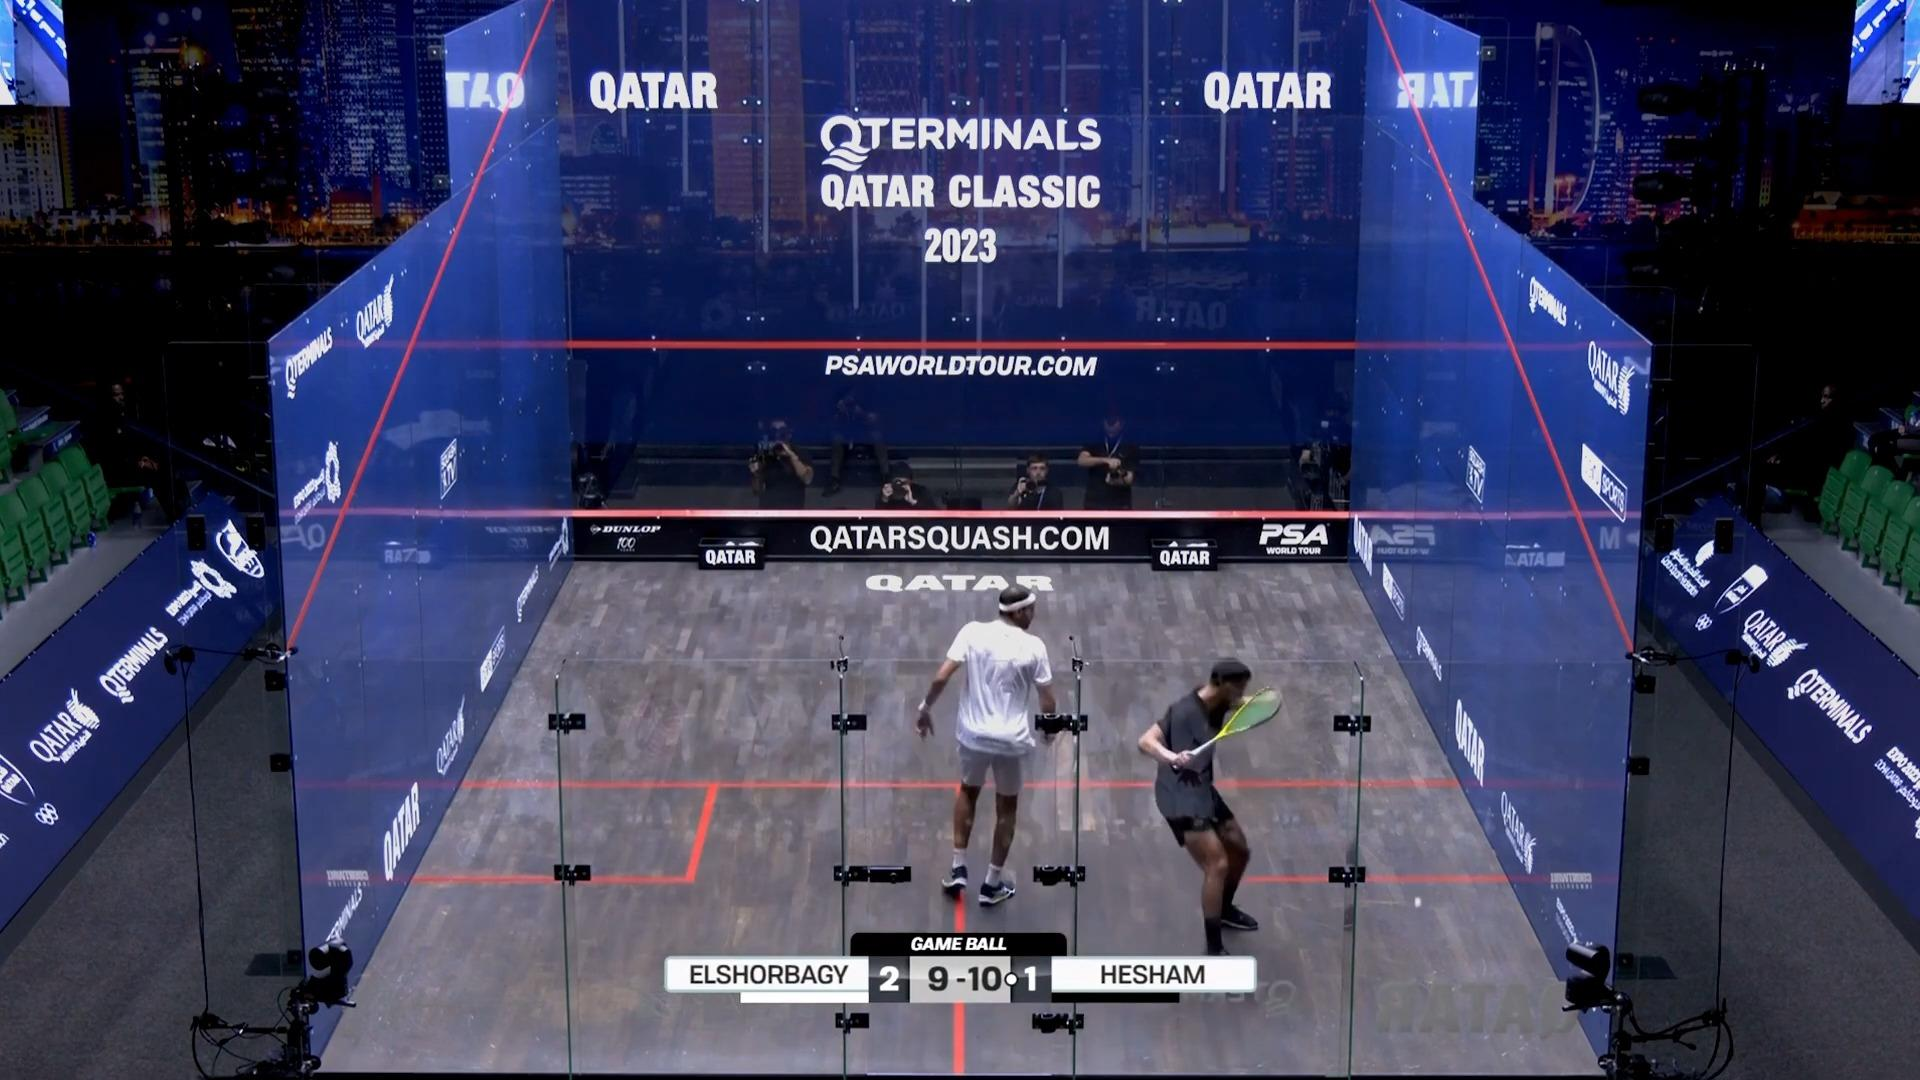Squash-Ball: (1403, 882, 1432, 924)
